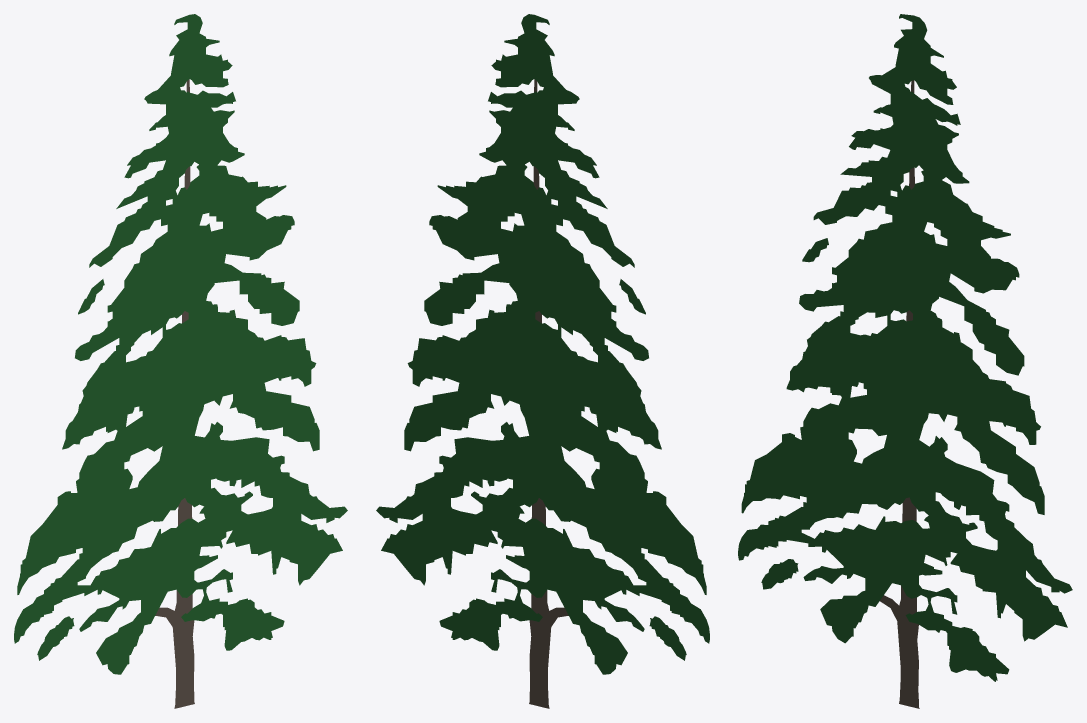
3 views of the same model, side by side, from view 1: azimuth 30°, elevation 25°; view 2: azimuth 150°, elevation 25°; view 3: azimuth 330°, elevation 25° (orthographic).
Visible parts, largest first — view 1: SketchUp (×3); view 2: SketchUp (×3); view 3: SketchUp (×3).
Boxes of the visible parts, x1,y1,x2,y2 form: SketchUp (×3): (14,14,347,708); SketchUp (×3): (376,14,709,708); SketchUp (×3): (738,14,1072,708).
Size of the model in its own units: 242 by 2.5e-13 by 477.
